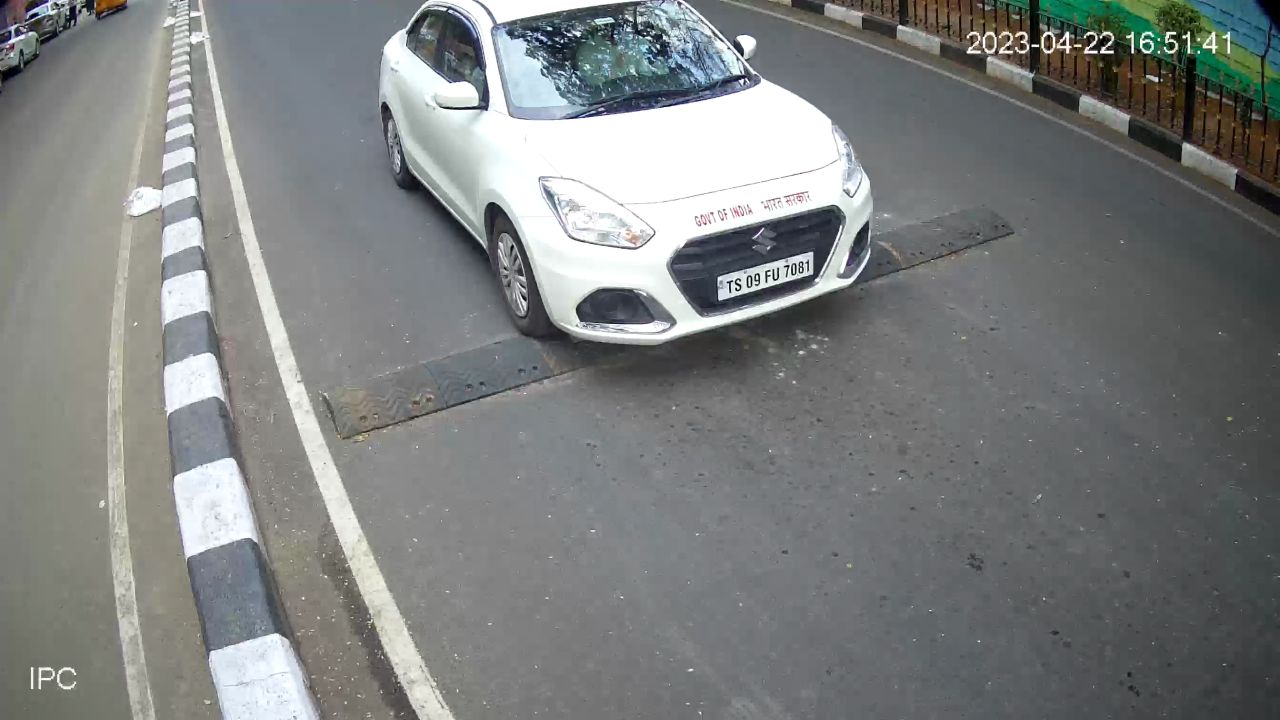license_plate: (712, 246, 819, 309)
